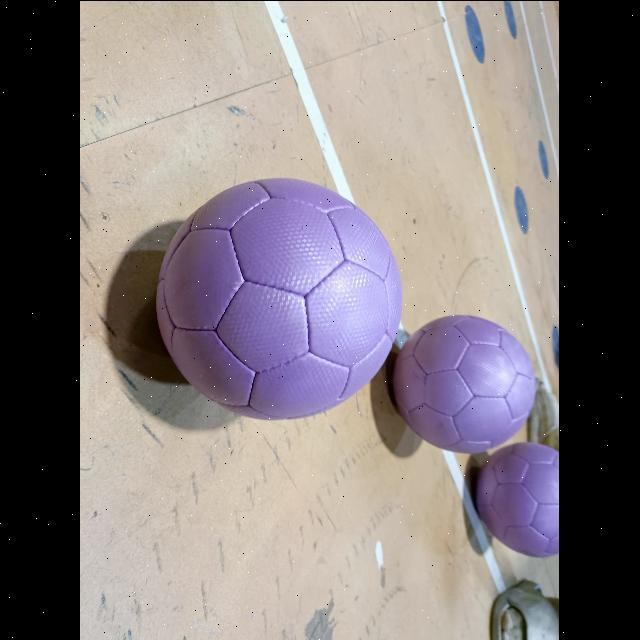P: (157, 178, 403, 418), (394, 314, 536, 452), (478, 442, 560, 556)
